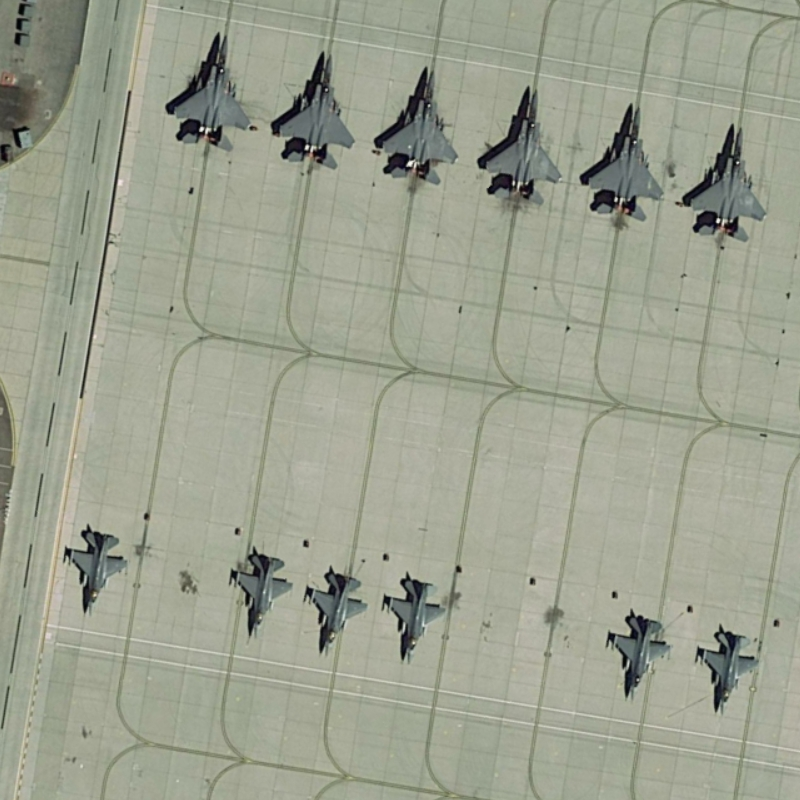A13: (473, 76, 569, 215), (573, 94, 672, 228), (368, 62, 464, 195), (676, 115, 771, 247), (163, 23, 254, 156), (269, 44, 358, 172)
A5: (61, 520, 137, 623), (600, 605, 674, 705), (693, 620, 765, 721), (225, 544, 296, 645), (303, 565, 373, 664), (380, 571, 444, 669)
